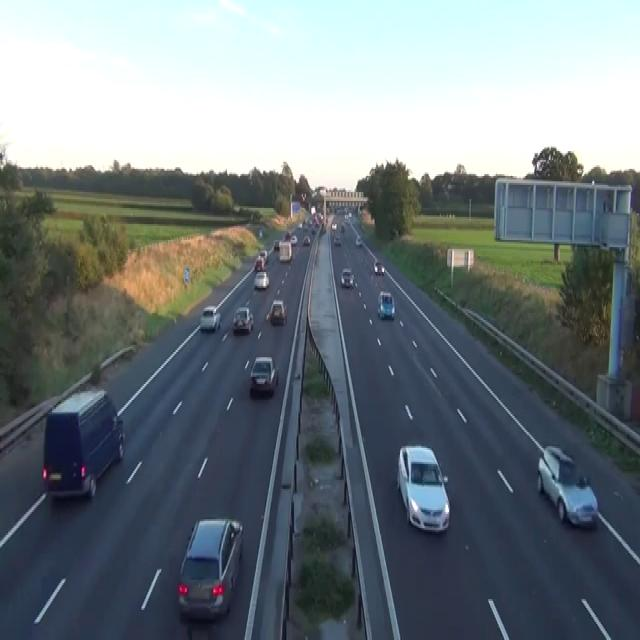Car: (177, 518, 243, 620), (537, 444, 598, 528), (397, 444, 450, 534), (249, 356, 279, 396), (281, 444, 297, 490), (199, 304, 221, 331), (232, 306, 253, 332), (377, 290, 395, 320), (267, 298, 286, 324), (253, 270, 269, 290), (340, 267, 353, 286), (373, 258, 384, 276), (254, 256, 264, 270), (259, 249, 267, 263), (333, 233, 341, 245), (302, 235, 310, 245), (273, 240, 280, 251), (355, 235, 362, 245), (284, 231, 291, 240), (290, 234, 297, 243), (331, 220, 337, 230), (317, 212, 323, 222), (310, 205, 316, 215), (321, 224, 326, 233), (310, 226, 316, 233), (302, 224, 307, 231), (258, 228, 262, 236), (344, 212, 348, 220), (297, 222, 302, 228), (341, 224, 344, 233), (348, 212, 352, 218)
Truck: (41, 388, 125, 500), (278, 240, 292, 261)
